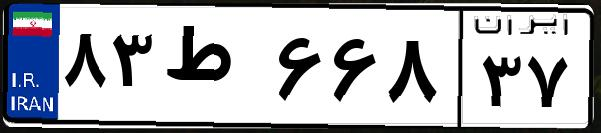3: (475, 38, 525, 113), (110, 28, 158, 98)
6: (270, 28, 330, 110), (330, 28, 385, 110)
7: (525, 38, 570, 115)
8: (385, 28, 445, 110), (57, 26, 110, 100)
ط: (158, 20, 270, 120)
